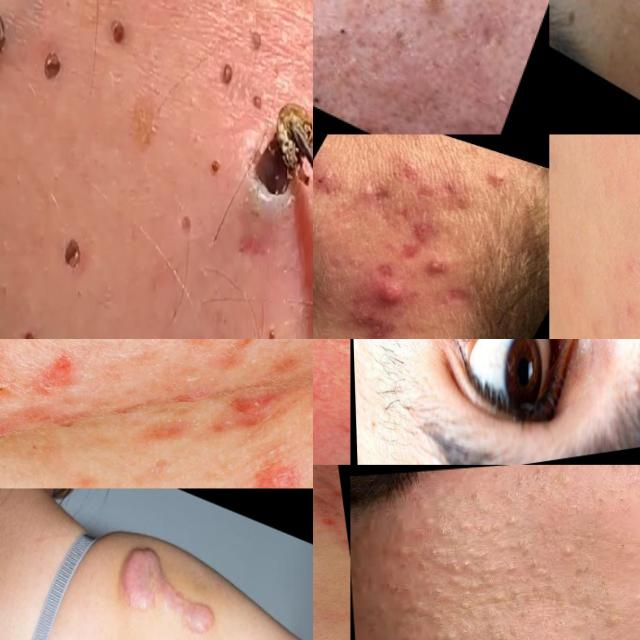acne_scars: (378, 212, 452, 273), (28, 347, 81, 399)
comedone: (458, 465, 558, 508), (316, 0, 364, 70), (583, 480, 634, 523), (610, 0, 640, 56), (411, 0, 468, 23), (378, 573, 418, 604), (62, 230, 88, 277), (325, 215, 368, 243), (348, 176, 388, 206), (512, 537, 541, 577), (386, 24, 422, 55), (42, 41, 63, 89), (0, 0, 15, 64), (109, 16, 133, 56), (313, 259, 346, 287), (407, 116, 456, 134), (388, 538, 421, 562), (575, 0, 602, 28), (592, 567, 612, 603), (250, 25, 268, 57), (414, 507, 439, 529), (322, 250, 350, 269), (434, 621, 462, 640), (220, 61, 234, 98), (248, 85, 267, 112), (17, 327, 44, 339)
cystic: (363, 274, 415, 316)
keloid: (106, 535, 226, 640)
papule: (388, 153, 432, 185), (313, 161, 346, 200), (483, 168, 519, 194), (316, 519, 340, 531)
pustule: (419, 254, 453, 278)
